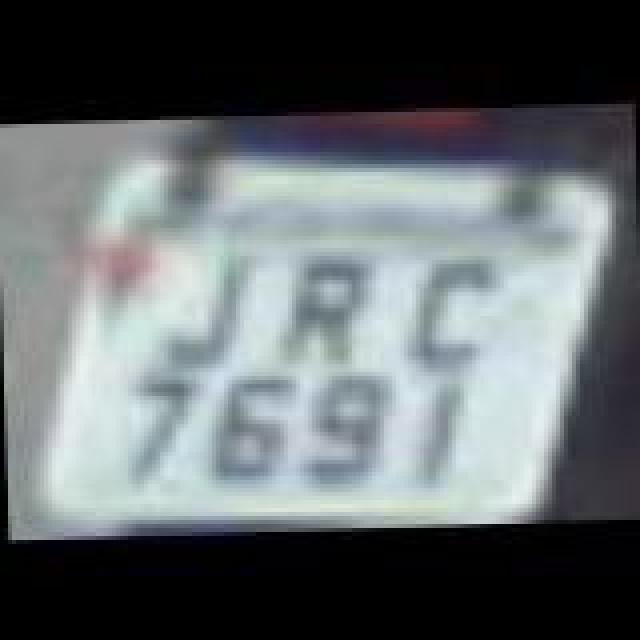1: (402, 358, 470, 490)
6: (198, 368, 298, 484)
7: (110, 370, 202, 490)
9: (298, 364, 390, 484)
C: (404, 248, 508, 368)
J: (144, 240, 256, 360)
R: (272, 252, 368, 372)
